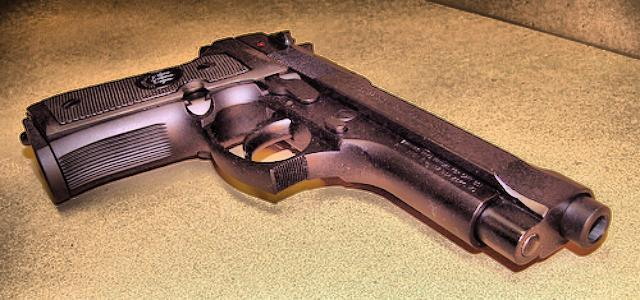pistol: (17, 18, 609, 270)
